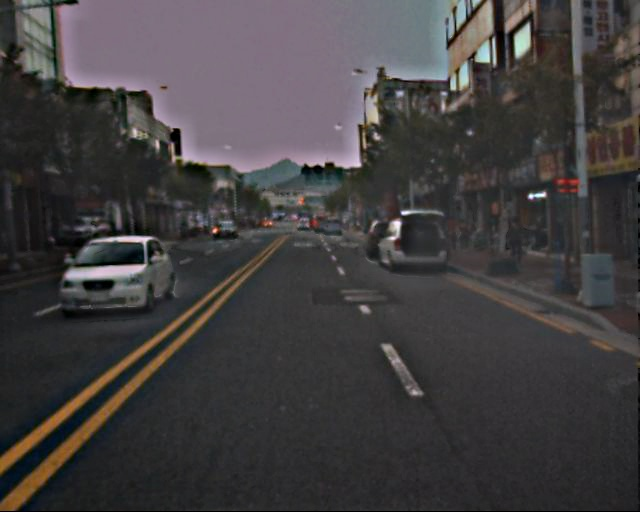person: (506, 217, 526, 266), (444, 216, 458, 249), (459, 219, 471, 248)
